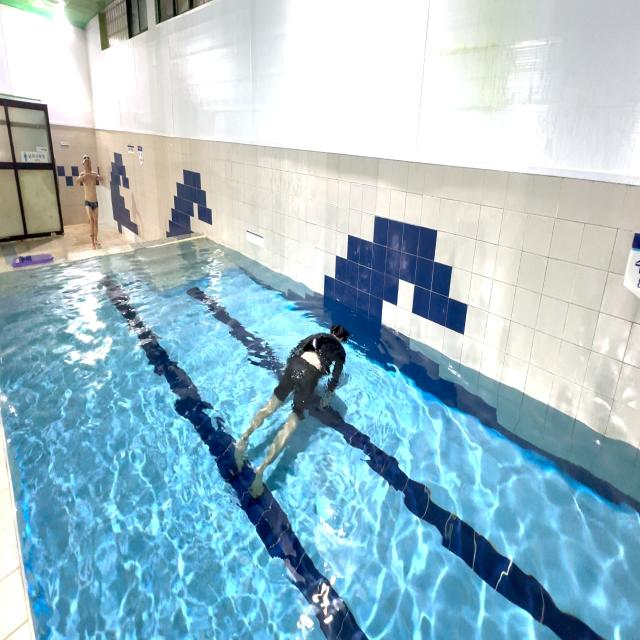Drowning: (233, 313, 357, 500)
